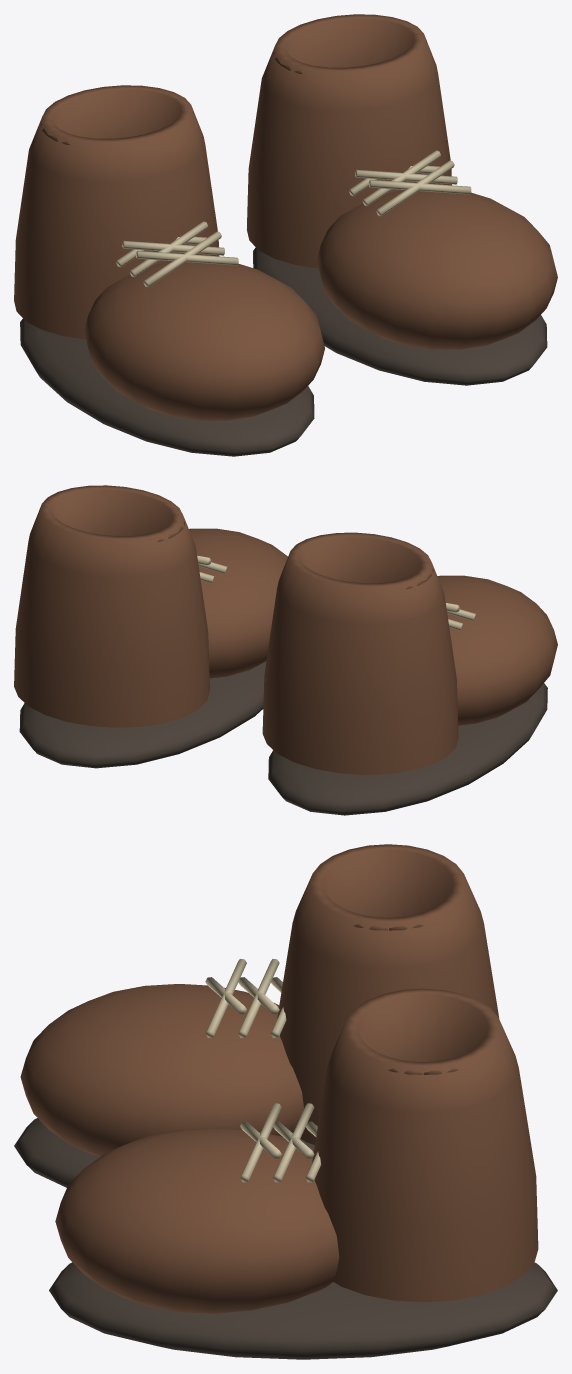
File: worn-shoes.glb
3 renders of one model, top to bottom at view 1: azimuth 30°, elevation 25°; view 2: azimuth 150°, elevation 25°; view 3: azimuth 270°, elevation 25°, orthographic. The views are drawn at different scales.
Parts seen in each view (by area): view 1: Open leather upper.001, Open leather upper, Leather toe.002, Leather toe.003, Rubber sole.002, Rubber sole.003, Crossed lace.031, Crossed lace.021, Crossed lace.030, Crossed lace.020, Crossed lace.023, Crossed lace.033 (+2 smaller); view 2: Open leather upper.001, Open leather upper, Leather toe.002, Rubber sole.002, Rubber sole.003, Leather toe.003; view 3: Open leather upper.001, Leather toe.003, Leather toe.002, Open leather upper, Rubber sole.003, Rubber sole.002, Crossed lace.033, Crossed lace.031, Crossed lace.023, Crossed lace.021.
Boxes of the visible parts, <box> form: Open leather upper.001: <box>246,14,451,268</box>; Open leather upper: <box>14,85,219,339</box>; Leather toe.002: <box>84,261,324,420</box>; Leather toe.003: <box>317,190,557,349</box>; Rubber sole.002: <box>20,318,314,456</box>; Rubber sole.003: <box>253,247,547,385</box>; Crossed lace.031: <box>369,179,471,194</box>; Crossed lace.021: <box>136,250,238,265</box>; Crossed lace.030: <box>376,160,454,216</box>; Crossed lace.020: <box>143,231,221,287</box>; Crossed lace.023: <box>122,240,224,255</box>; Crossed lace.033: <box>355,169,457,184</box>; Open leather upper.001: <box>14,485,209,727</box>; Open leather upper: <box>262,532,458,774</box>; Leather toe.002: <box>437,575,557,725</box>; Rubber sole.002: <box>268,683,547,815</box>; Rubber sole.003: <box>19,661,266,768</box>; Leather toe.003: <box>189,528,287,678</box>; Open leather upper.001: <box>312,988,538,1302</box>; Leather toe.003: <box>55,1128,339,1313</box>; Leather toe.002: <box>20,984,303,1156</box>; Open leather upper: <box>277,844,499,1144</box>; Rubber sole.003: <box>49,1262,557,1359</box>; Rubber sole.002: <box>14,1118,314,1187</box>; Crossed lace.033: <box>273,1103,314,1182</box>; Crossed lace.031: <box>240,1103,281,1182</box>; Crossed lace.023: <box>238,959,279,1038</box>; Crossed lace.021: <box>205,959,246,1038</box>.
Size of the model in its own units: 0.289 by 0.15 by 0.25.
